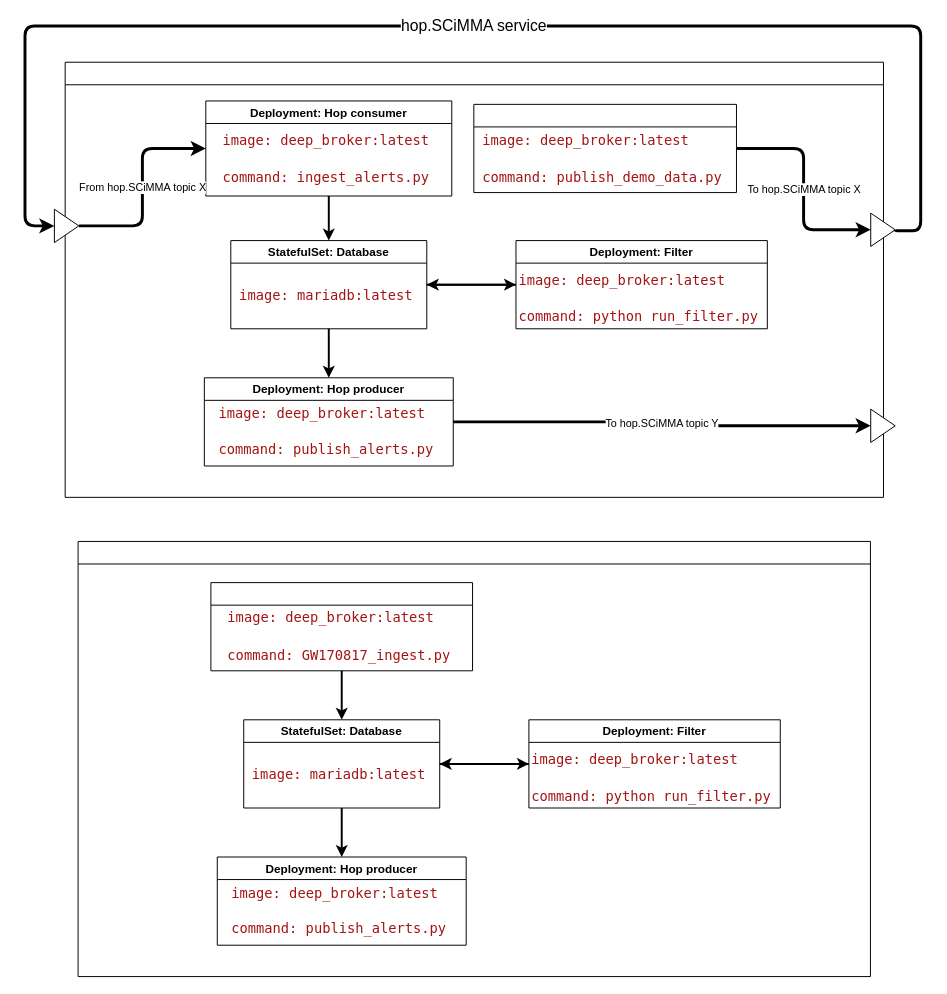
This 947x994 diagram has some shape labels left out. Each missing label, with the box of its shape:
Data broker: full alert demo: (64, 61, 883, 497)
Data broker: Input alert simulation: (77, 540, 870, 977)
Deployment: Demo data publisher: (473, 103, 736, 193)
Deployment: Hop consumer simulator: (210, 582, 473, 671)
